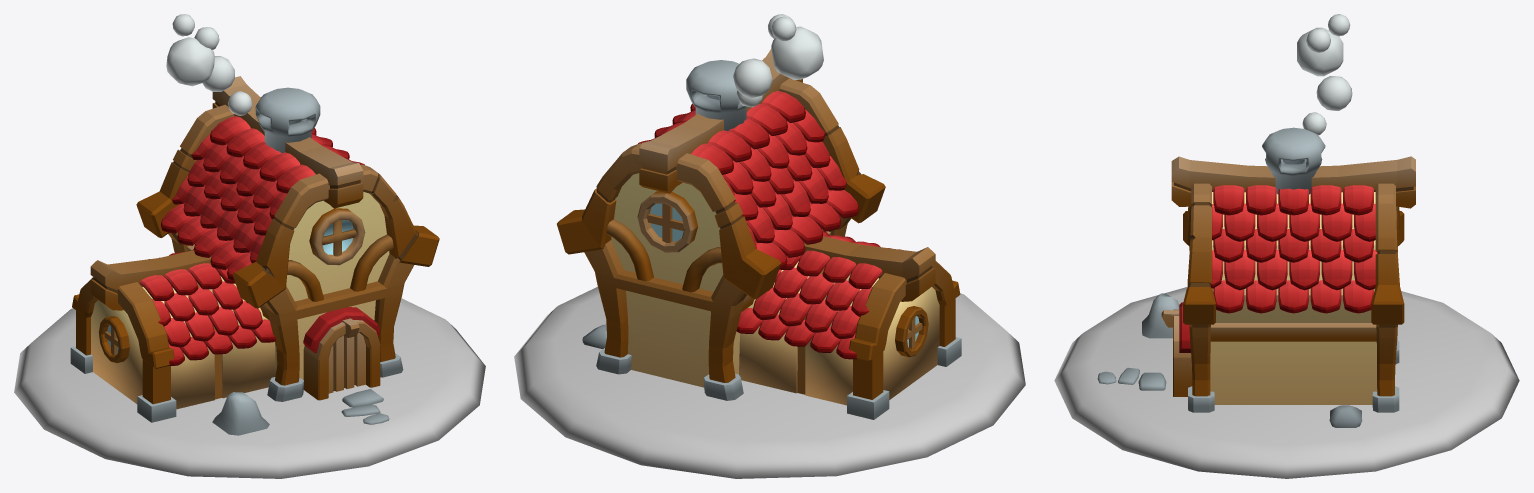
Rendered from 3DEC_04.fbx.
3 renders of one model, left to right at view 1: azimuth 30°, elevation 25°; view 2: azimuth 150°, elevation 25°; view 3: azimuth 270°, elevation 25°, orthographic. The views are drawn at different scales.
Parts seen in each view (by area): view 1: Cube.007; view 2: Cube.007; view 3: Cube.007.
Boxes of the visible parts, x1,y1,x2,y2 form: Cube.007: [14, 14, 485, 478]; Cube.007: [514, 14, 1025, 478]; Cube.007: [1054, 14, 1519, 478].
Bounding box in the file's own units: 870 × 715 × 870.
